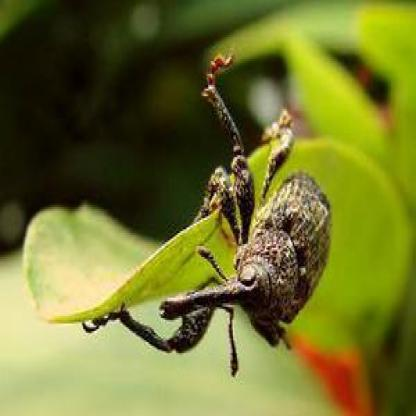rice-bug: (158, 152, 337, 376)
